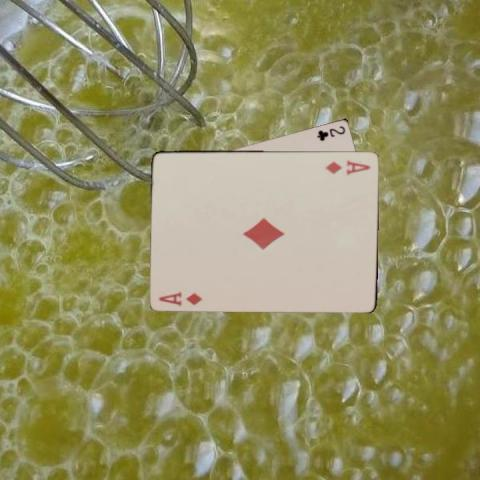2c: (314, 123, 346, 142)
Ad: (156, 288, 204, 307), (323, 157, 372, 175)
